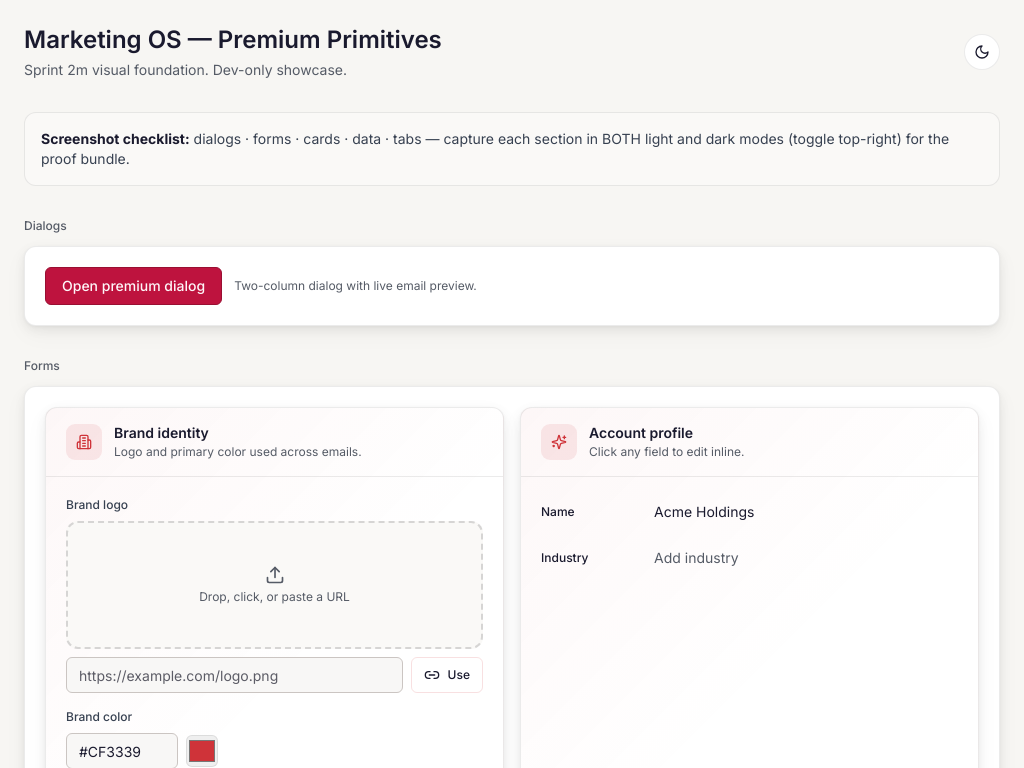
Test: premium showcase page (render) › opens the demo PremiumDialog and renders its title
Expected: the text "Compose campaign email" is not shown
Click the button with test id "button-open-premium-dialog": click(134, 286) [45,267,222,305]
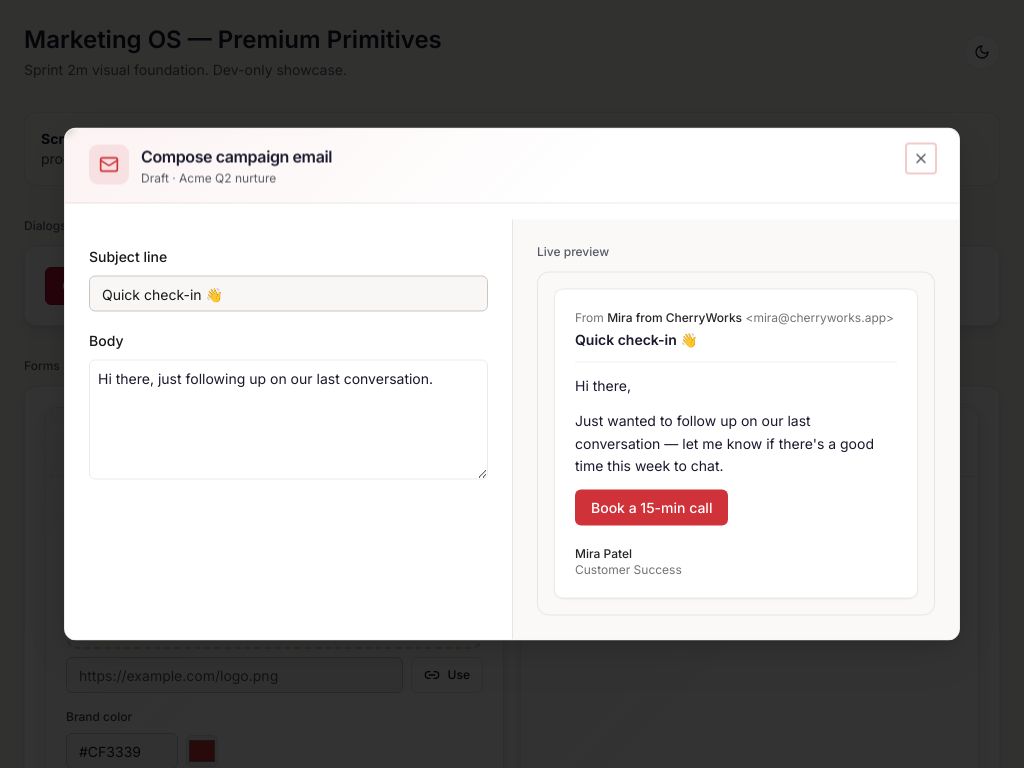
Expected: the heading "Compose campaign email" is shown, [141,146,332,166]
Expected: the text "Draft · Acme Q2 nurture" is shown, [141,170,276,186]
